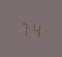four: (30, 19, 40, 37)
seven: (19, 19, 29, 36)
